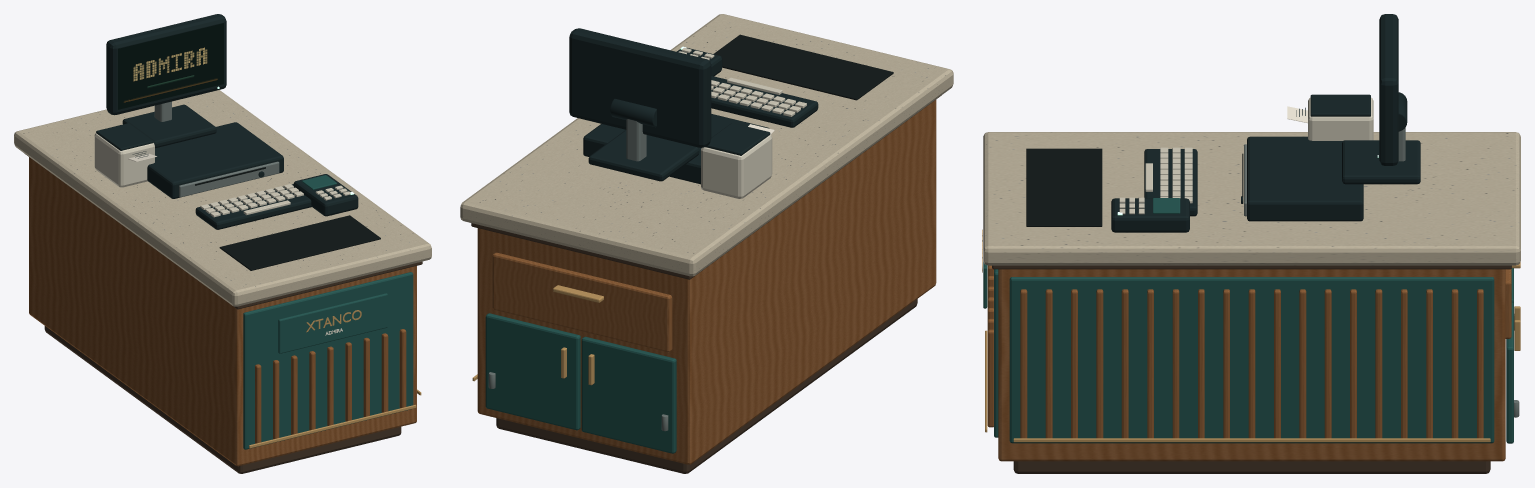
Rendered from counter-interpreted-better.glb.
The picture shows the model from 3 angles, left to right: view 1: azimuth 30°, elevation 25°; view 2: azimuth 150°, elevation 25°; view 3: azimuth 270°, elevation 25°; orthographic projection. The views are drawn at different scales.
Visible parts, largest first — view 1: cabinet_body, solid_terrazzo_worktop, front_teal_panel, screen_tpv_main, cash_drawer_shell, packing_mat, brand_nameplate, tpv_bezel, cabinet_plinth, tpv_weighted_base, receipt_printer_body, keyboard_body (+14 smaller); view 2: cabinet_body, solid_terrazzo_worktop, tpv_bezel, rear_service_drawer, rear_service_door_0, rear_service_door_1, packing_mat, cabinet_plinth, receipt_printer_body, tpv_weighted_base, keyboard_body, cash_drawer_shell (+4 smaller); view 3: side_teal_panel, solid_terrazzo_worktop, cabinet_body, cash_drawer_shell, cabinet_plinth, packing_mat, tpv_bezel, tpv_weighted_base, worktop_shadow_seam, side_brass_inlay, card_terminal_base, receipt_printer_body (+24 smaller).
Part boxes in pixels (x1,y1,x2,y2): cabinet_body: (29, 157, 416, 466); solid_terrazzo_worktop: (14, 90, 431, 306); front_teal_panel: (243, 272, 413, 449); screen_tpv_main: (118, 23, 223, 109); cash_drawer_shell: (147, 122, 283, 198); packing_mat: (219, 215, 380, 270); brand_nameplate: (278, 293, 387, 353); tpv_bezel: (106, 14, 226, 115); cabinet_plinth: (44, 326, 401, 473); tpv_weighted_base: (122, 104, 216, 148); receipt_printer_body: (94, 133, 154, 187); keyboard_body: (195, 184, 311, 229); cabinet_body: (477, 100, 936, 464); solid_terrazzo_worktop: (460, 14, 953, 276); tpv_bezel: (569, 28, 711, 147); rear_service_drawer: (492, 252, 672, 352); rear_service_door_0: (581, 336, 676, 453); rear_service_door_1: (485, 313, 580, 430); packing_mat: (713, 34, 893, 100); cabinet_plinth: (496, 299, 917, 473); receipt_printer_body: (701, 134, 772, 198); tpv_weighted_base: (588, 130, 699, 181); keyboard_body: (711, 76, 818, 127); cash_drawer_shell: (583, 114, 769, 184); side_teal_panel: (1009, 277, 1494, 443); solid_terrazzo_worktop: (983, 132, 1520, 265); cabinet_body: (998, 269, 1505, 461); cash_drawer_shell: (1247, 136, 1363, 221); cabinet_plinth: (1013, 461, 1490, 473); packing_mat: (1026, 148, 1102, 226); tpv_bezel: (1379, 14, 1398, 165); tpv_weighted_base: (1342, 140, 1420, 184); worktop_shadow_seam: (992, 265, 1511, 269); side_brass_inlay: (1013, 438, 1490, 442); card_terminal_base: (1111, 198, 1189, 232); receipt_printer_body: (1308, 97, 1373, 140).
Bounding box in the file's own units: 1.1 × 1.66 × 2.12.
12 materials, 3 textured.
